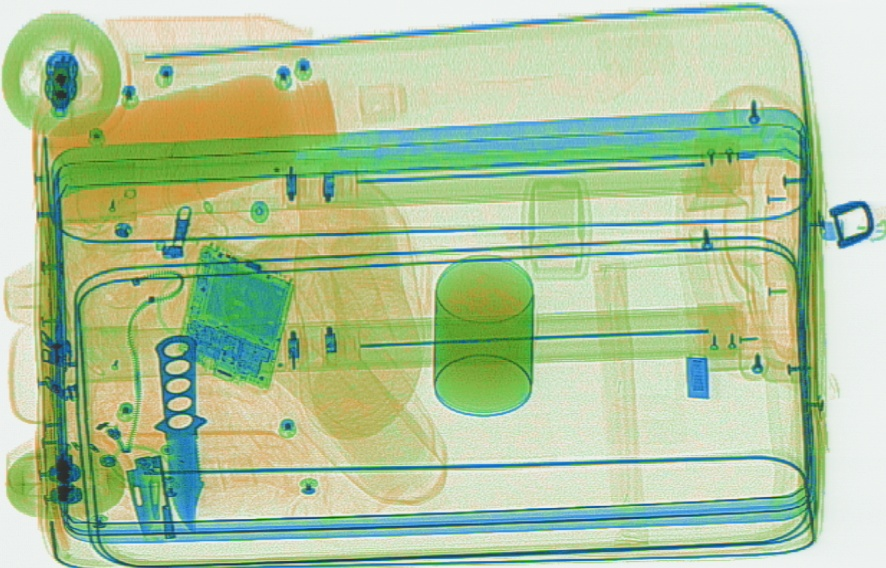knife: (150, 331, 208, 531), (125, 448, 180, 540)
